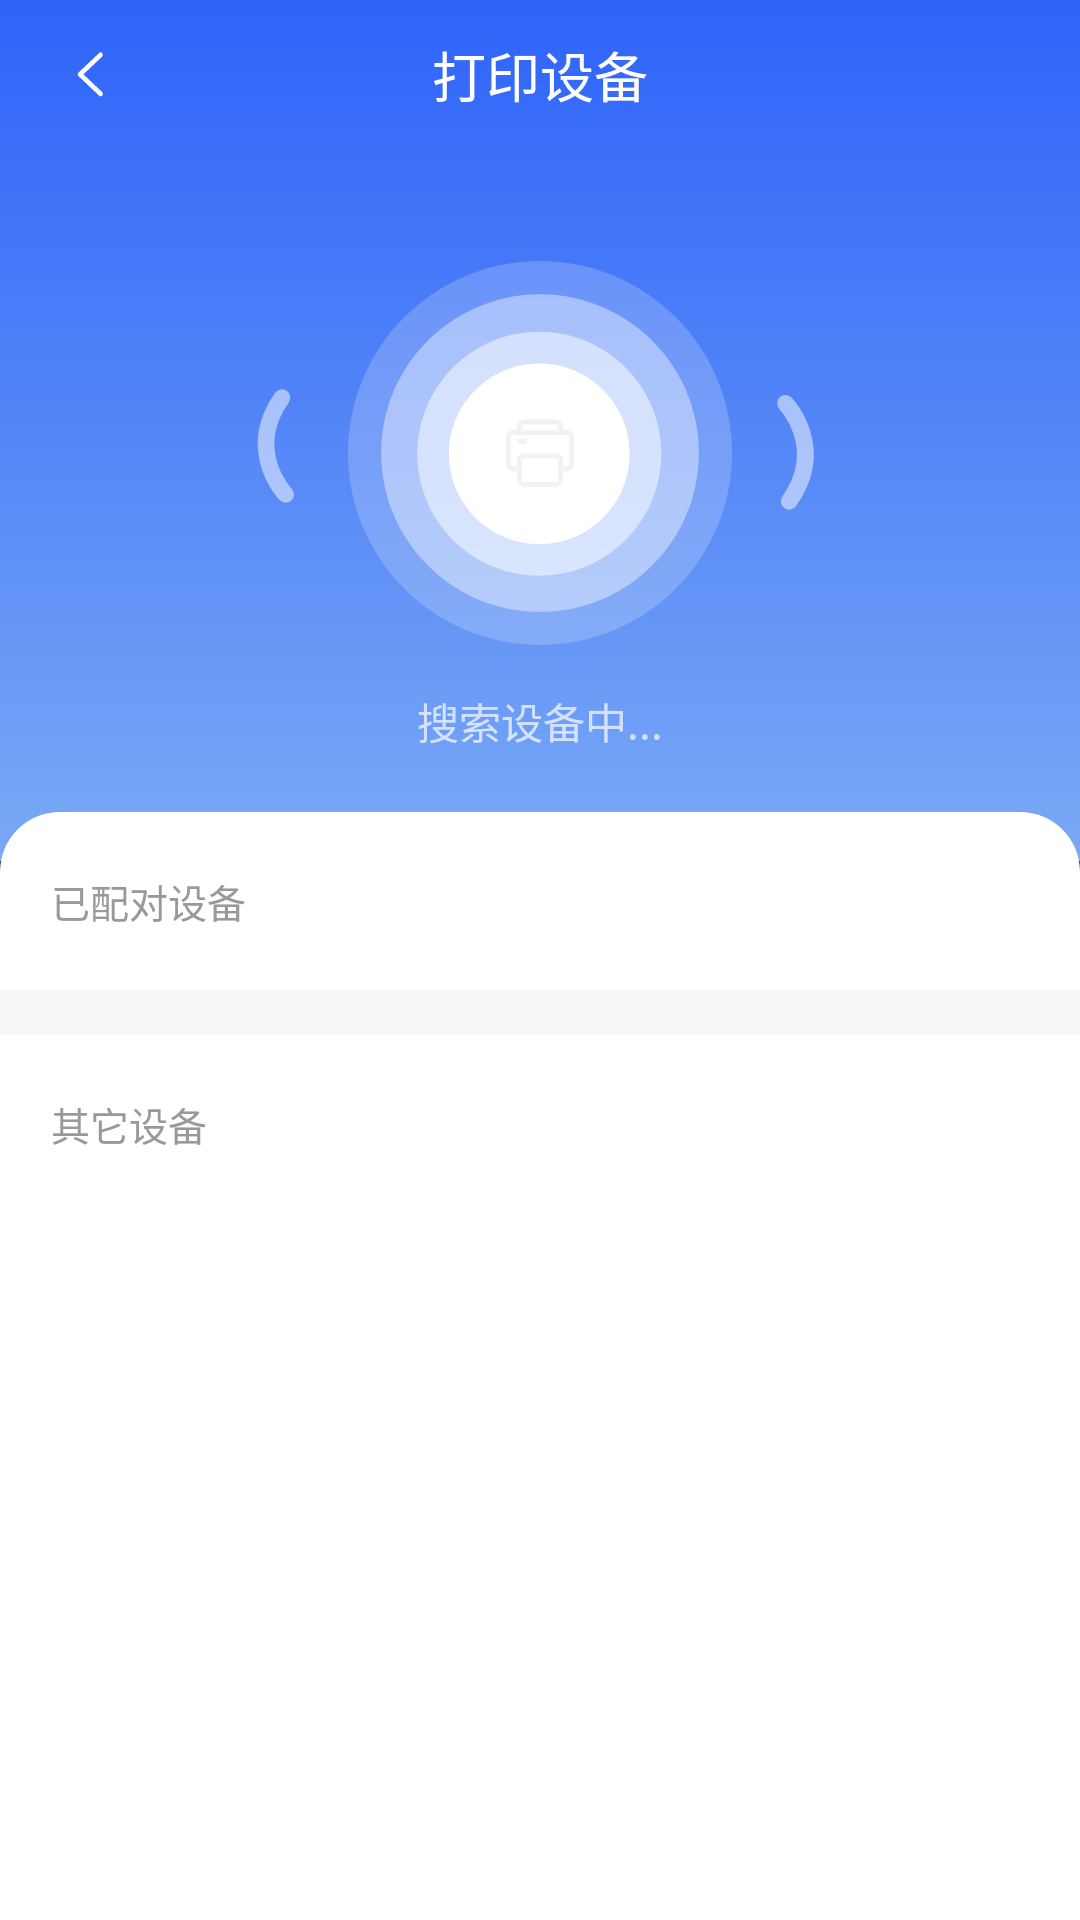

Icons on this 1080*1920 Android screen, each with its box as (x1, y1, x2, y2):
setting iv close: (77, 52, 103, 97)
